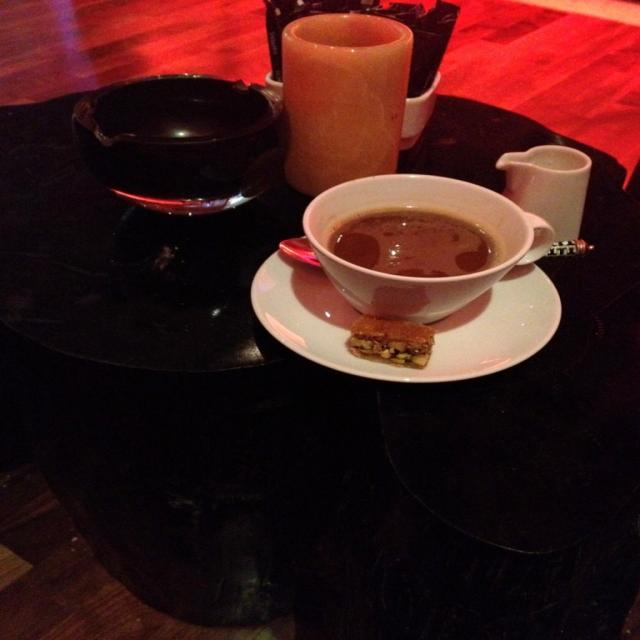Coffee: (329, 208, 496, 282)
Tea: (334, 206, 490, 277)
